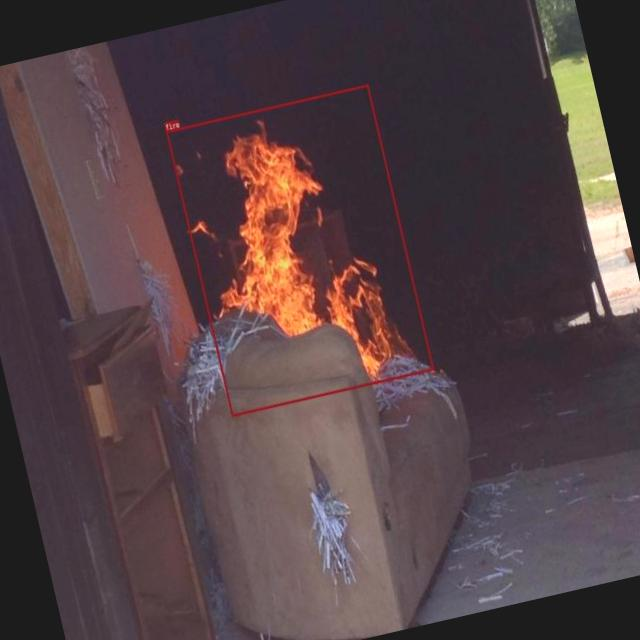fire: (164, 84, 433, 416)
